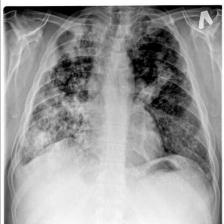tuberculosis: (7, 11, 218, 224)
